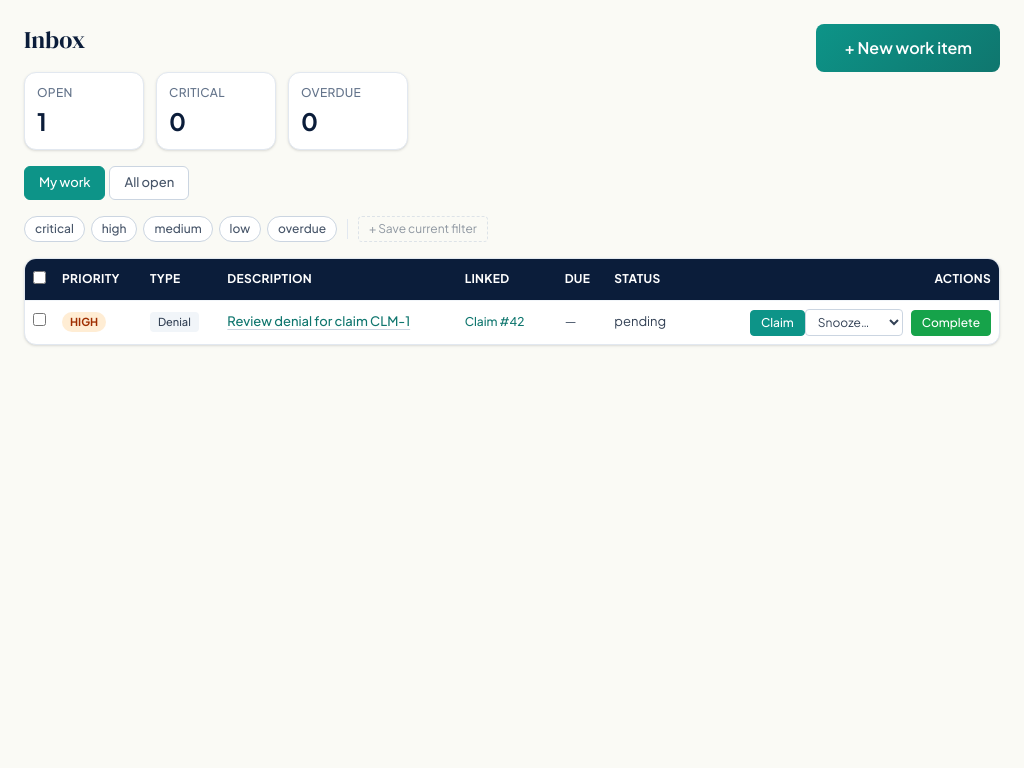
InboxPage › opens the activity drawer when the description is clicked
Click the button with aria-label "Open details for item 7": (319, 322) x1=227 y1=312 x2=410 y2=332
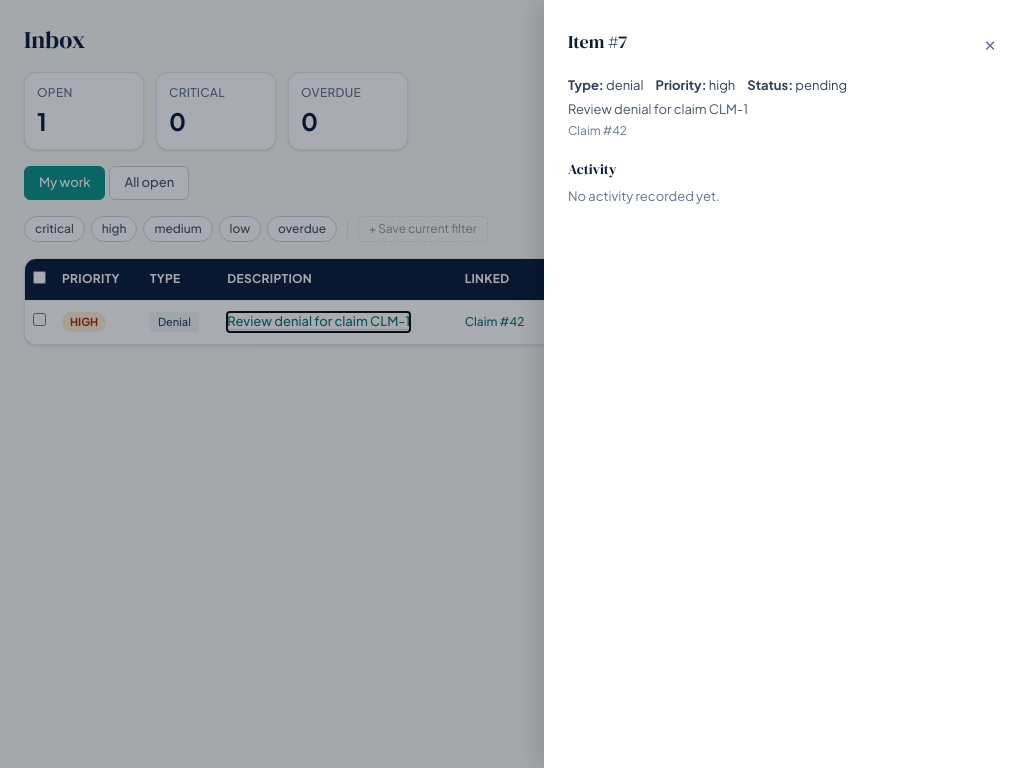
Expected: the dialog named "Work item #7" is shown, x1=544 y1=0 x2=1023 y2=767
